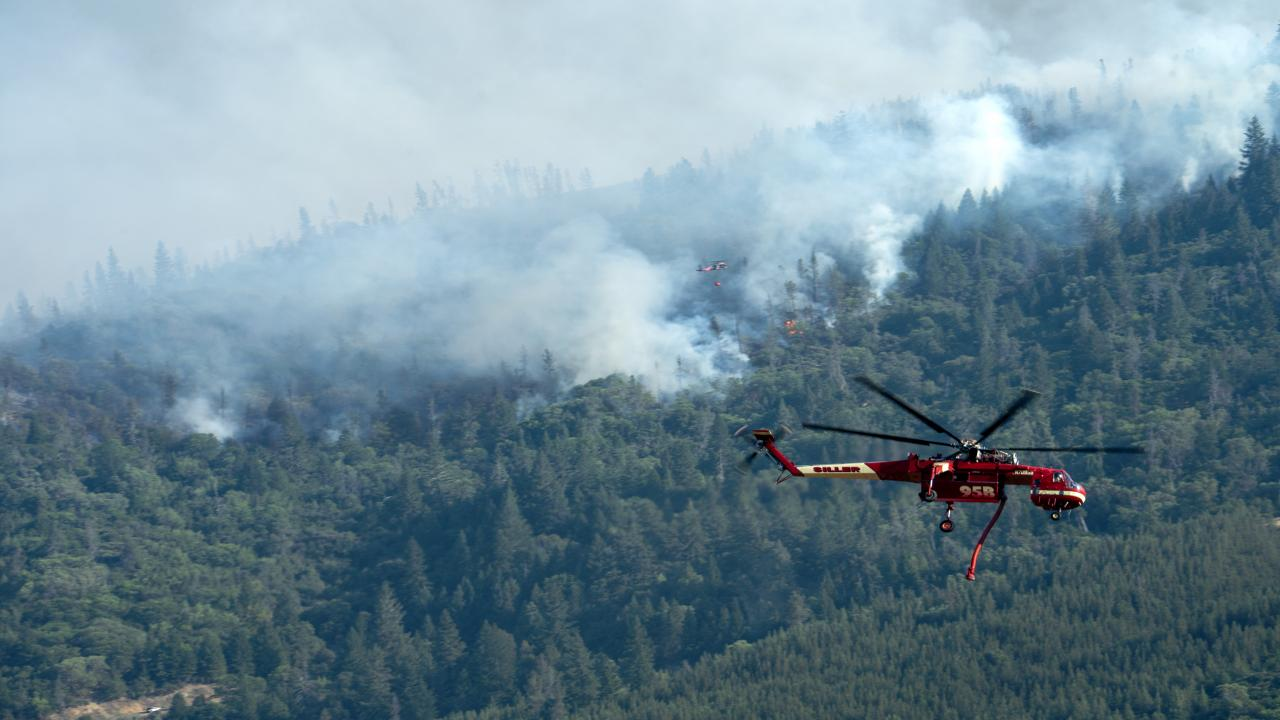Helicopter: (710, 360, 1160, 547)
